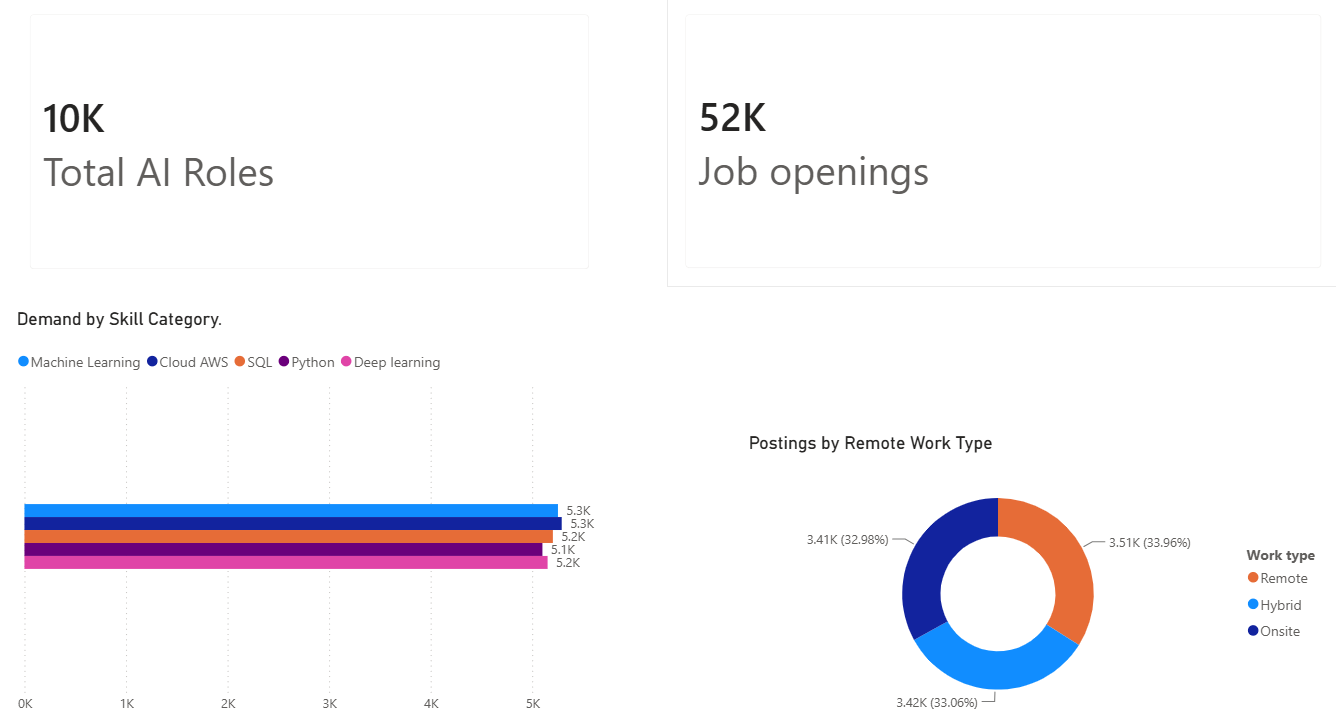

The page's visual inventory and layout, read from the dashboard file:
{"tool":"powerbi","page":{"name":"Page 2","canvas":[1280,720],"ordinal":1},"visuals":[{"type":"clusteredBarChart","title":"Demand by Skill Category.","fields":{"Y":["Sum(AI_Job_Market_Trends_2026.skills_ml)","Sum(AI_Job_Market_Trends_2026.skills_cloud)","Sum(AI_Job_Market_Trends_2026.skills_sql)","Sum(AI_Job_Market_Trends_2026.skills_python)","Sum(AI_Job_Market_Trends_2026.skills_deep_learning)"]},"box":[15,296.7,566.7,395],"z":0},{"type":"donutChart","title":"Postings by Remote Work Type","fields":{"Y":["CountNonNull(AI_Job_Market_Trends_2026.remote_type)"],"Category":["AI_Job_Market_Trends_2026.remote_type"]},"box":[713.3,415,567,277],"z":5},{"type":"cardVisual","fields":{"Data":["Sum(AI_Job_Market_Trends_2026.job_openings)"]},"box":[640,0,640,276.7],"z":6},{"type":"cardVisual","fields":{"Data":["AI_Job_Market_Trends_2026.Total_AI_Roles"]},"box":[15,0,567,277],"z":7}]}

Visuals, with their boxes on the page's 1280x720 design canvas (x1, y1, x2, y2). These are canvas units, not pixel positions in the 1336x718 screenshot, which may show the page scaled, cropped or inside an application window:
"Demand by Skill Category." clusteredBarChart: x1=15, y1=297, x2=582, y2=692
"Postings by Remote Work Type" donutChart: x1=713, y1=415, x2=1280, y2=692
cardVisual - Sum(AI_Job_Market_Trends_2026.job_openings): x1=640, y1=0, x2=1280, y2=277
cardVisual - AI_Job_Market_Trends_2026.Total_AI_Roles: x1=15, y1=0, x2=582, y2=277
